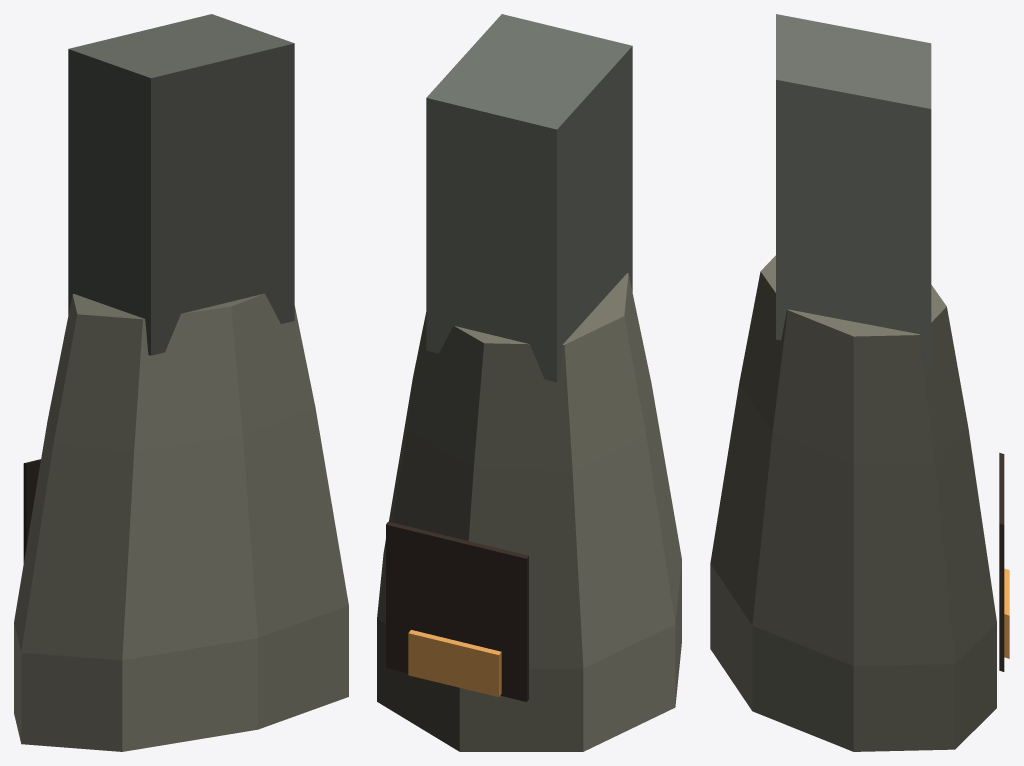
3 views of the same model, side by side, from view 1: azimuth 30°, elevation 25°; view 2: azimuth 150°, elevation 25°; view 3: azimuth 270°, elevation 25° (orthographic). The views are drawn at different scales.
Parts seen in each view (by area): view 1: 7b1174c988f8610c3ffabe6718b4ccdaae7867d01cc3c174bd43f645c30d; view 2: 7b1174c988f8610c3ffabe6718b4ccdaae7867d01cc3c174bd43f645c30d; view 3: 7b1174c988f8610c3ffabe6718b4ccdaae7867d01cc3c174bd43f645c30d.
Part boxes in pixels (x1,y1,x2,y2): 7b1174c988f8610c3ffabe6718b4ccdaae7867d01cc3c174bd43f645c30d: [14, 14, 348, 751]; 7b1174c988f8610c3ffabe6718b4ccdaae7867d01cc3c174bd43f645c30d: [377, 14, 681, 751]; 7b1174c988f8610c3ffabe6718b4ccdaae7867d01cc3c174bd43f645c30d: [710, 14, 1009, 751].
Size of the model in its own units: 1.45 by 3.05 by 1.25.
Materials: 3 (1 with a texture image).
